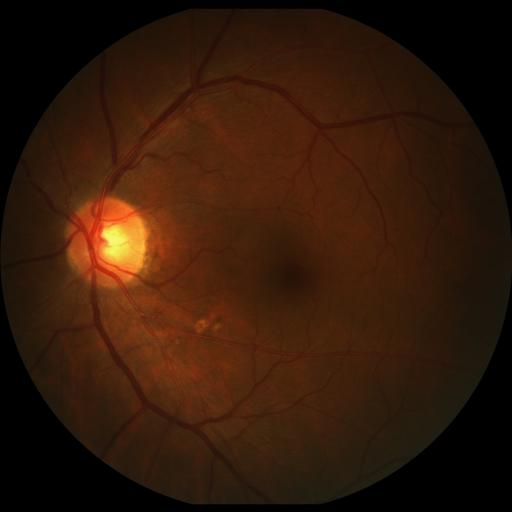Optic Cup: (92, 226, 133, 263)
Optic Disc: (64, 197, 148, 289)
